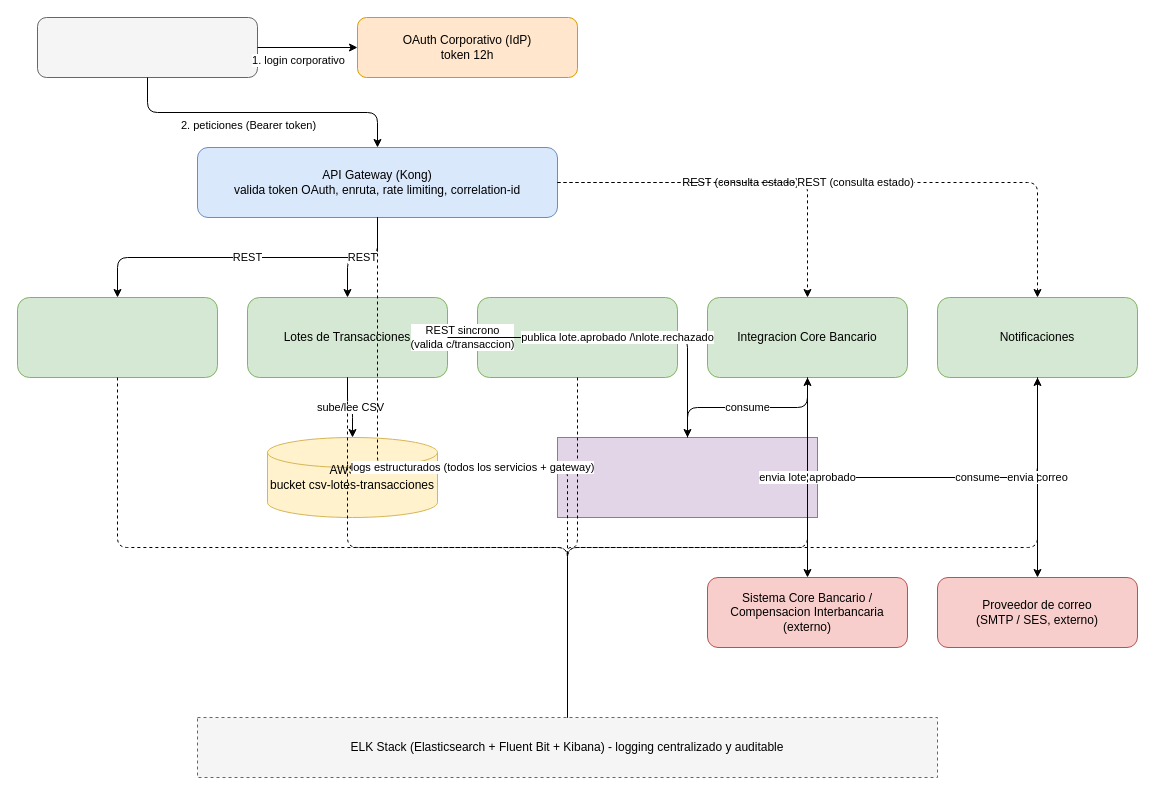
Some shapes in this 1155 by 795 pixel diagram are drawn without their labels. Each missing label, with the centre of its shape:
Apache Kafka lote.aprobado / lote.rechazado core.envio.completado / fallido: point 687,477
Identidad y Permisos (extiende auth-service P2): point 117,337
Portal Web Interno (Maker / Checker / Authorizer / Admin): point 147,47
Validacion y Prevencion de Fraude: point 577,337
